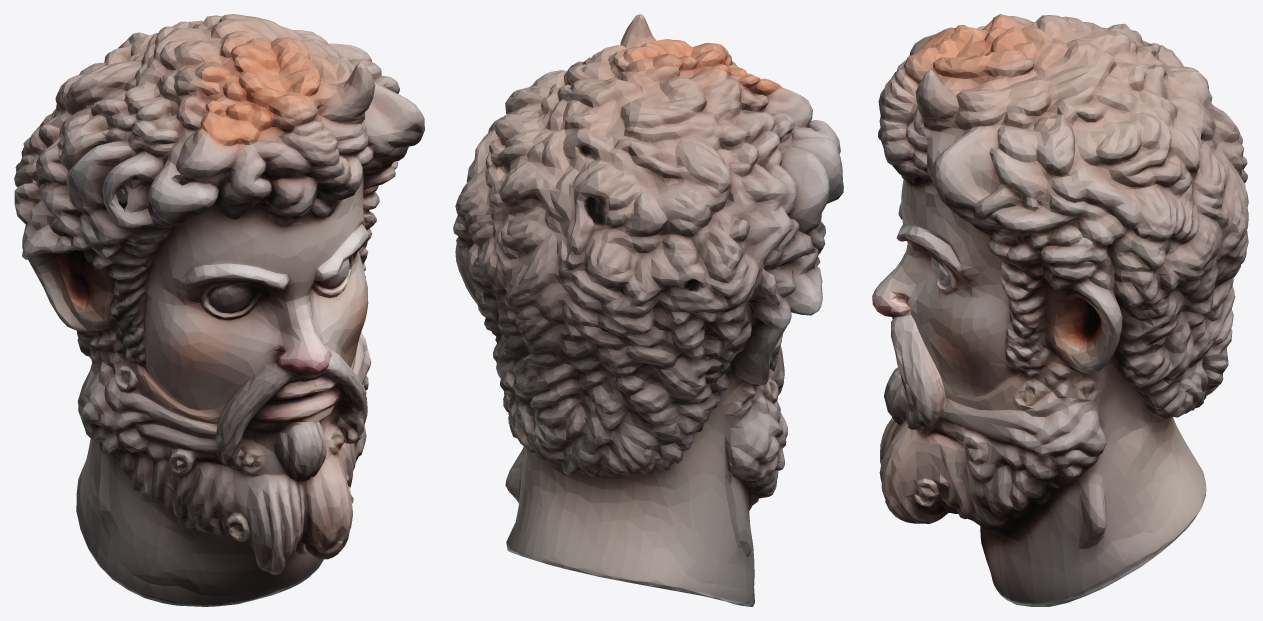
File: statue_4.glb
The picture shows the model from 3 angles, left to right: view 1: azimuth 30°, elevation 25°; view 2: azimuth 150°, elevation 25°; view 3: azimuth 270°, elevation 25°; orthographic projection. The views are drawn at different scales.
Parts seen in each view (by area): view 1: world; view 2: world; view 3: world.
Boxes of the visible parts, <box> form: world: <box>14,14,424,606</box>; world: <box>453,14,843,606</box>; world: <box>872,14,1248,606</box>.
Bounding box in the file's own units: 0.6945 × 0.9994 × 0.6287.
Materials: 1 (1 with a texture image).
